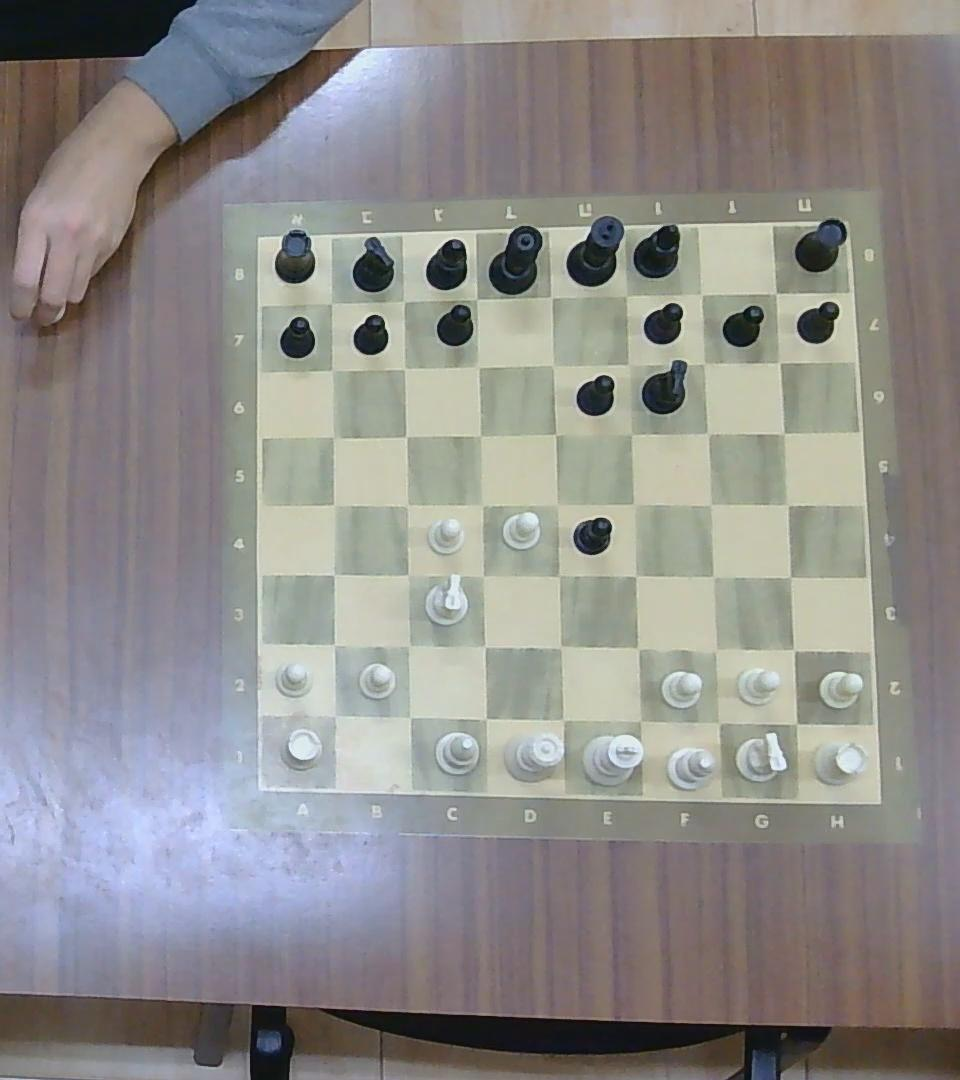xcorner: (702, 705, 734, 738), (621, 631, 653, 664), (623, 704, 656, 736), (543, 630, 575, 662), (546, 702, 578, 734), (319, 699, 350, 731), (470, 703, 501, 734), (468, 631, 500, 661), (699, 634, 731, 664), (780, 707, 812, 737), (393, 701, 423, 732), (698, 561, 728, 592), (775, 561, 805, 592), (319, 629, 349, 659), (777, 635, 808, 664), (621, 560, 650, 590), (393, 631, 423, 660), (467, 560, 496, 590), (544, 560, 573, 590), (319, 558, 348, 588), (393, 560, 422, 590), (467, 490, 495, 518), (697, 490, 725, 518), (616, 420, 645, 447), (693, 418, 722, 445), (393, 489, 421, 516), (773, 489, 801, 516), (621, 489, 649, 516), (543, 489, 571, 516), (463, 285, 491, 312), (542, 420, 569, 447), (770, 420, 798, 446), (320, 491, 348, 517), (537, 284, 566, 309), (318, 422, 345, 448), (317, 289, 345, 314), (464, 353, 492, 378), (393, 422, 419, 448), (318, 356, 344, 382), (612, 282, 639, 307), (540, 351, 565, 377), (390, 287, 415, 313), (467, 421, 492, 446), (616, 352, 641, 376), (691, 350, 715, 374), (390, 356, 415, 379), (763, 280, 788, 303), (767, 349, 791, 372), (691, 282, 711, 304)
